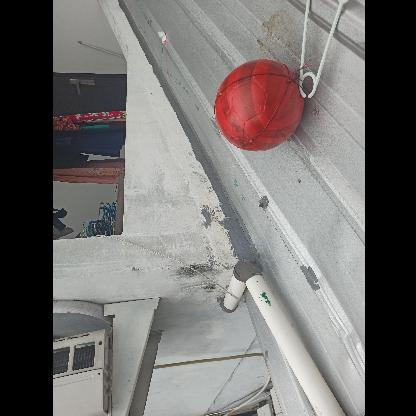red_ball: (210, 58, 300, 150)
